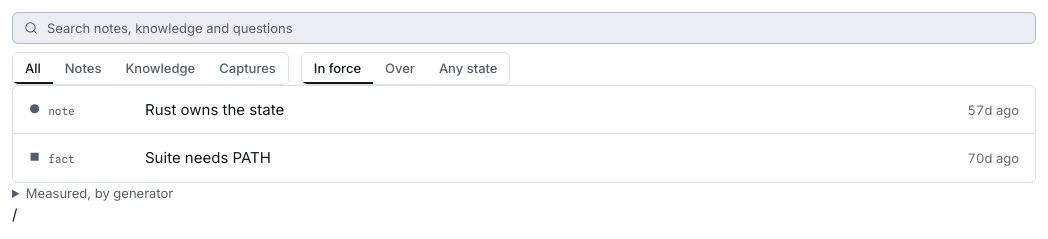
Test: UnifiedList › the Type filter hides notes
Expected: the button "fact Suite needs PATH 70d ago" is shown, 13,134 -> 1035,182
Click the button "Knowledge".
click(160, 68)  # box 113,53 -> 207,84
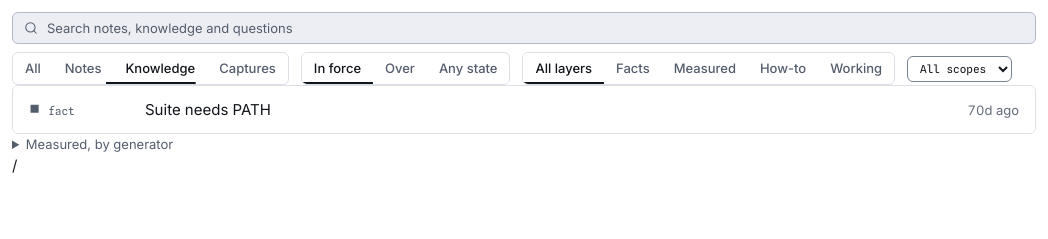
Expected: the button "fact Suite needs PATH 70d ago" is shown, 13,86 -> 1035,133
Result: the button "Rust owns the state" is gone
